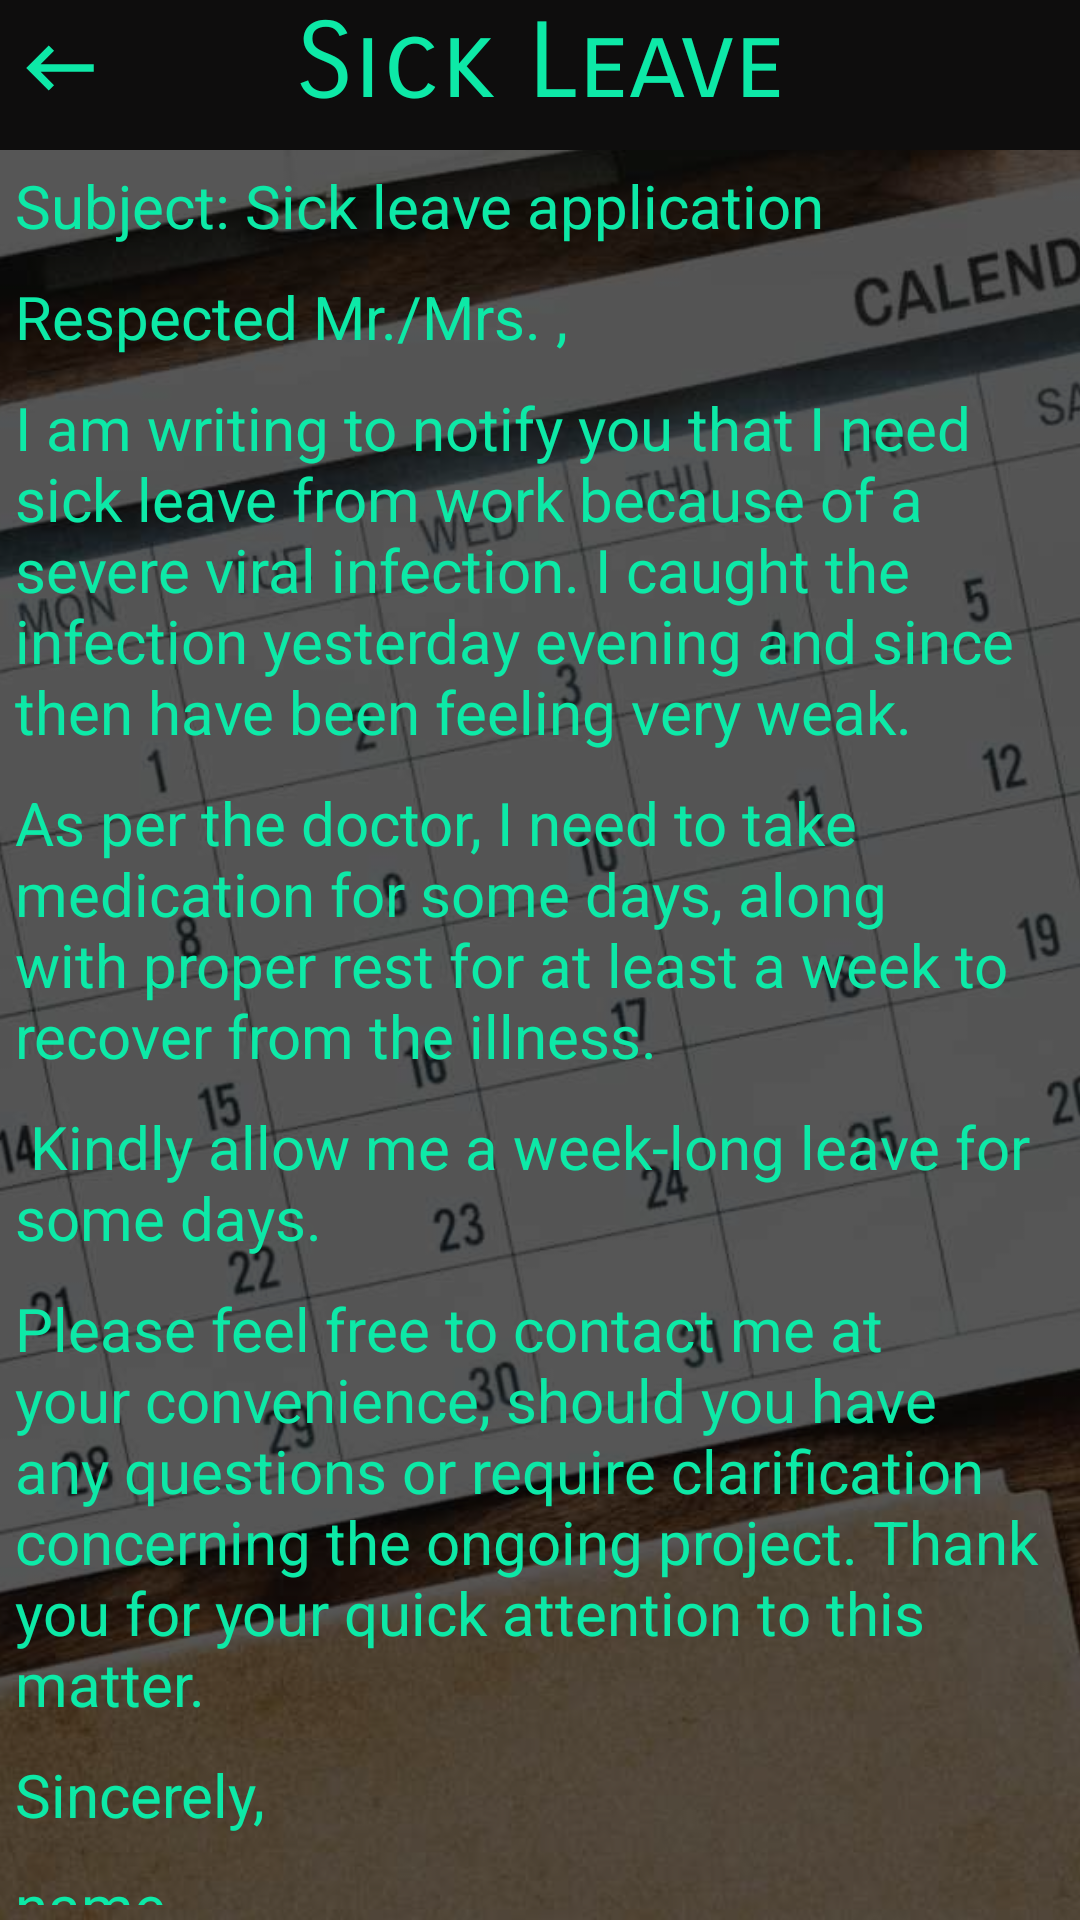

Icon bounding boxes for this 1080w x 1920h phone screenshot, format (x1, y1, x2, y2):
back: (26, 45, 94, 91)
